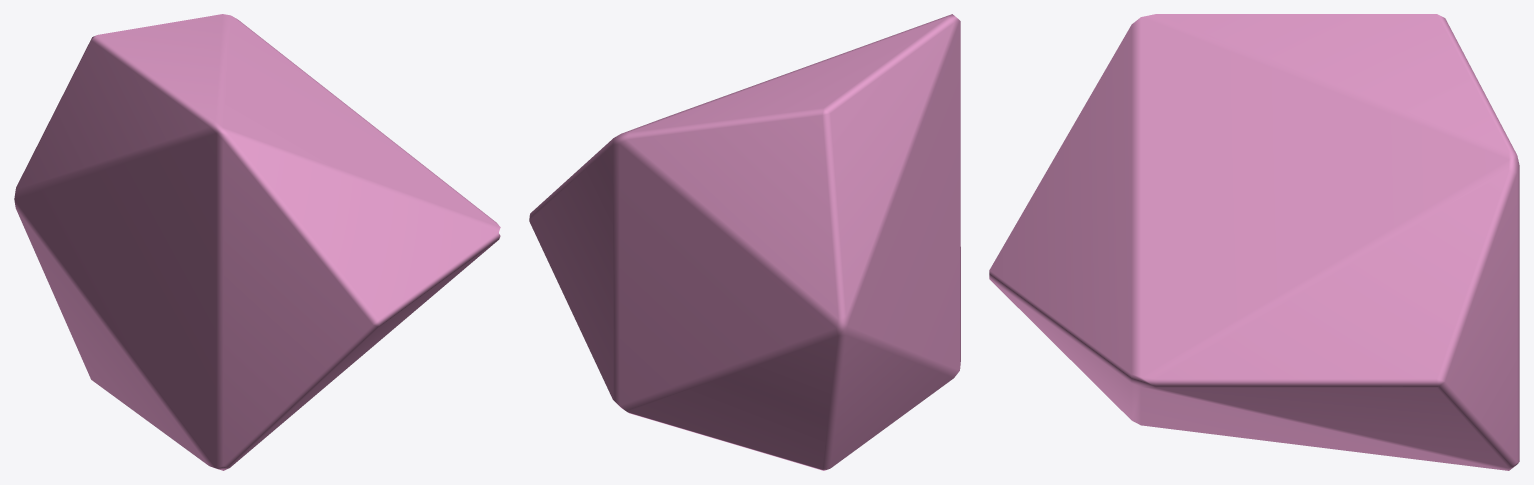
The model's file is AmethystGem.fbx.
The picture shows the model from 3 angles, left to right: view 1: azimuth 30°, elevation 25°; view 2: azimuth 150°, elevation 25°; view 3: azimuth 270°, elevation 25°; orthographic projection. The views are drawn at different scales.
Visible parts, largest first — view 1: AmethystGem1; view 2: AmethystGem1; view 3: AmethystGem1.
Part boxes in pixels (box(x1,y1,x2,y2)): AmethystGem1: box(14, 14, 500, 470); AmethystGem1: box(529, 14, 960, 470); AmethystGem1: box(989, 14, 1519, 470).
Size of the model in its own units: 77.98 by 77.46 by 90.16.
